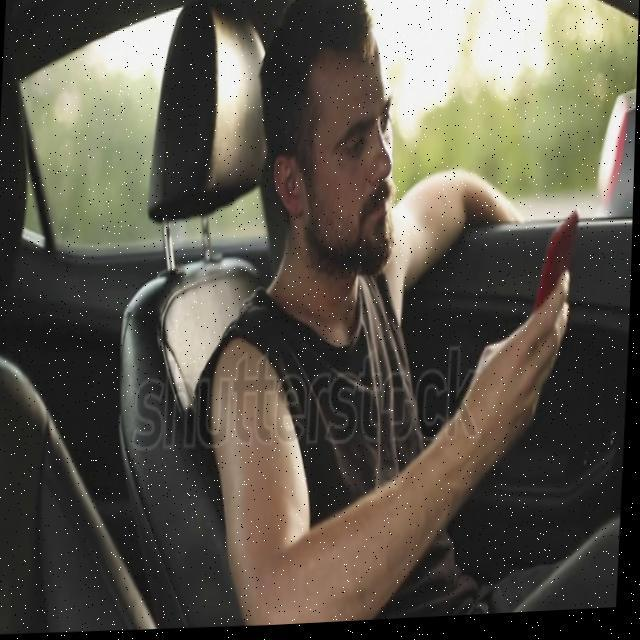PhoneCall: (535, 214, 579, 376)
